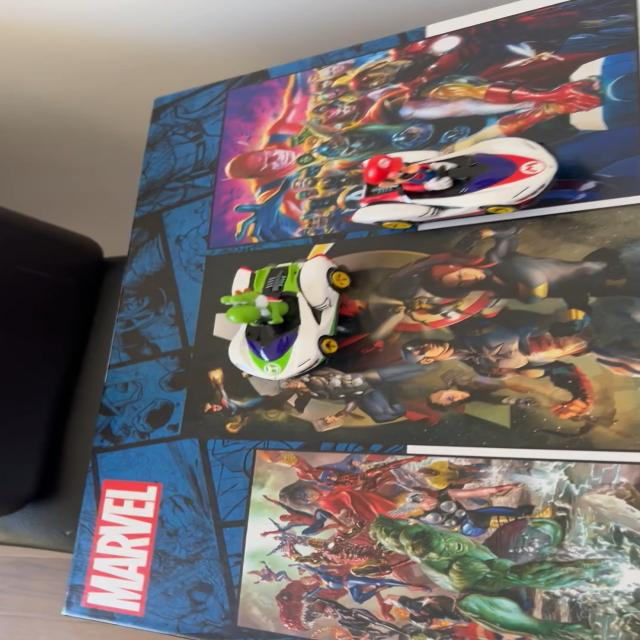mario: (340, 135, 574, 229)
yoshi: (197, 240, 366, 394)
